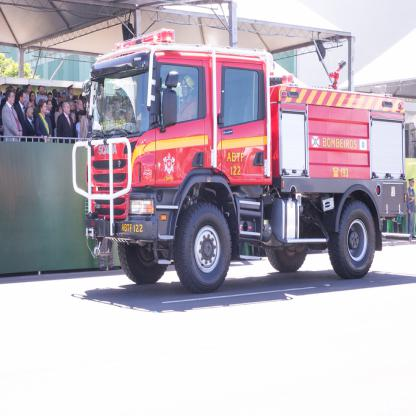Truck: (69, 25, 408, 295)
